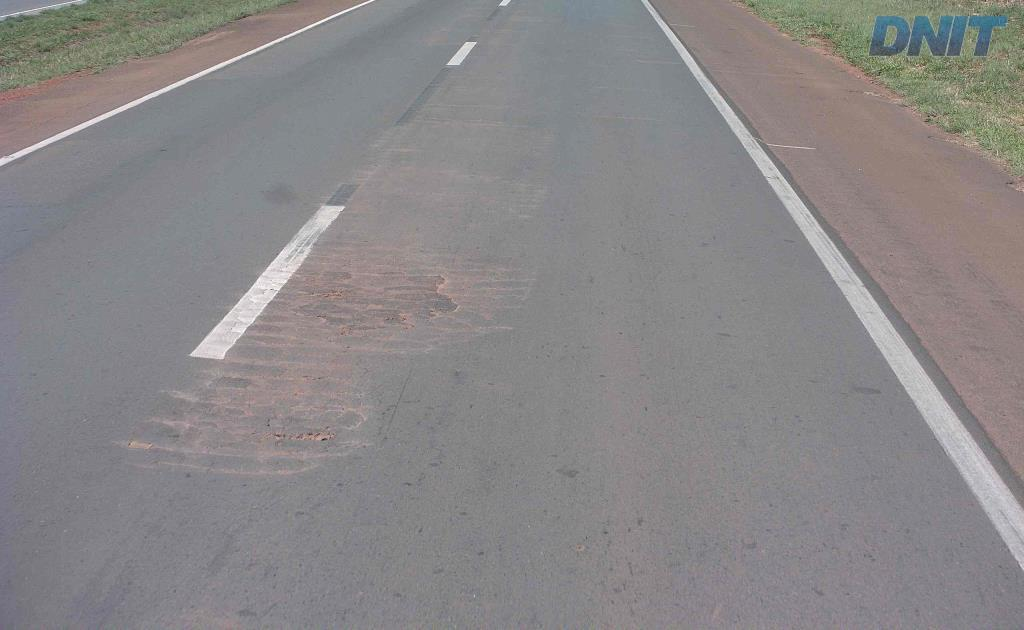pothole: (267, 425, 334, 442)
